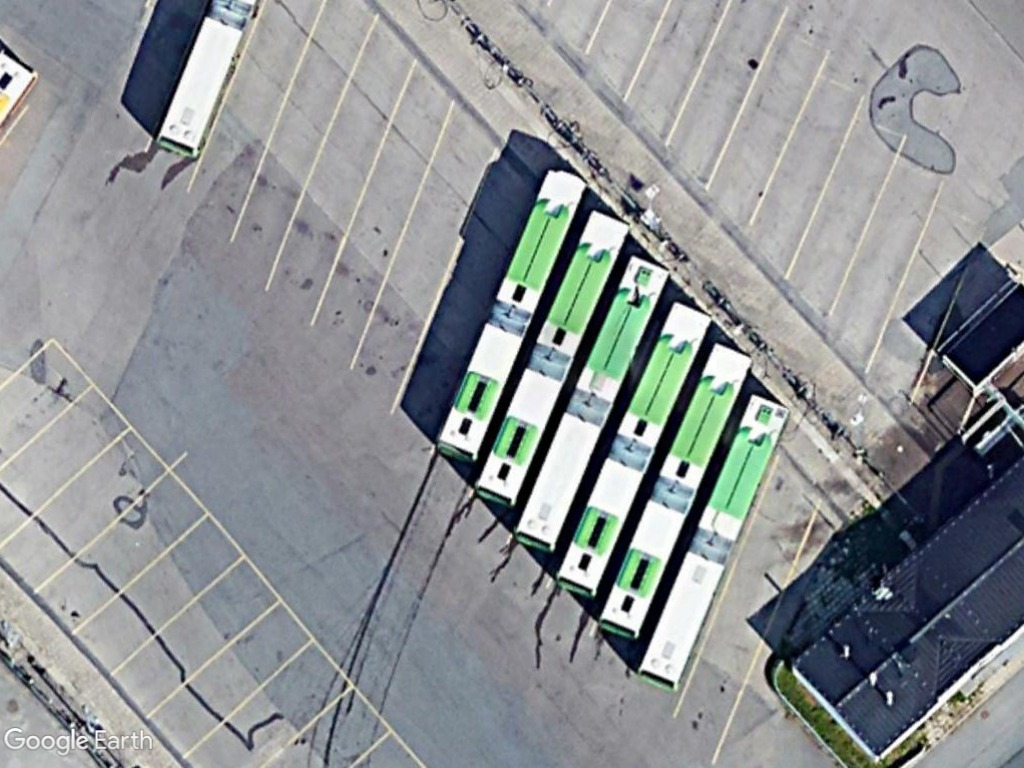bus: (550, 296, 713, 604), (629, 391, 795, 692), (469, 204, 631, 510), (434, 161, 593, 472), (508, 253, 673, 552), (595, 342, 753, 645)
